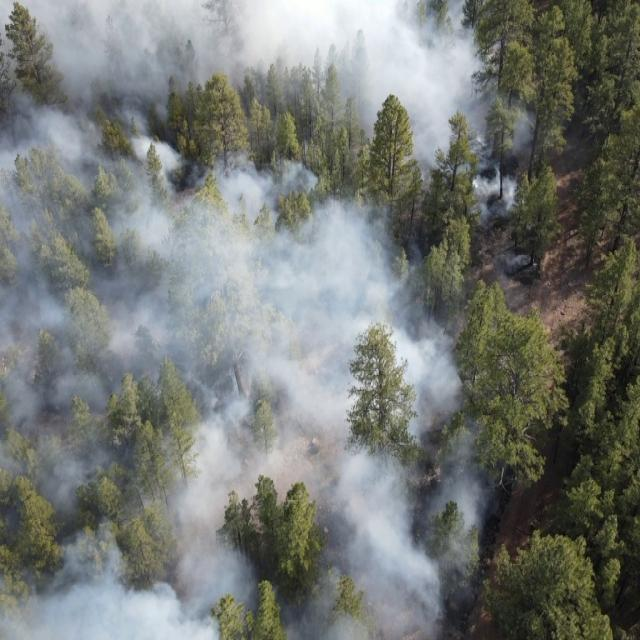smoke: (0, 0, 497, 638), (498, 101, 541, 222)
